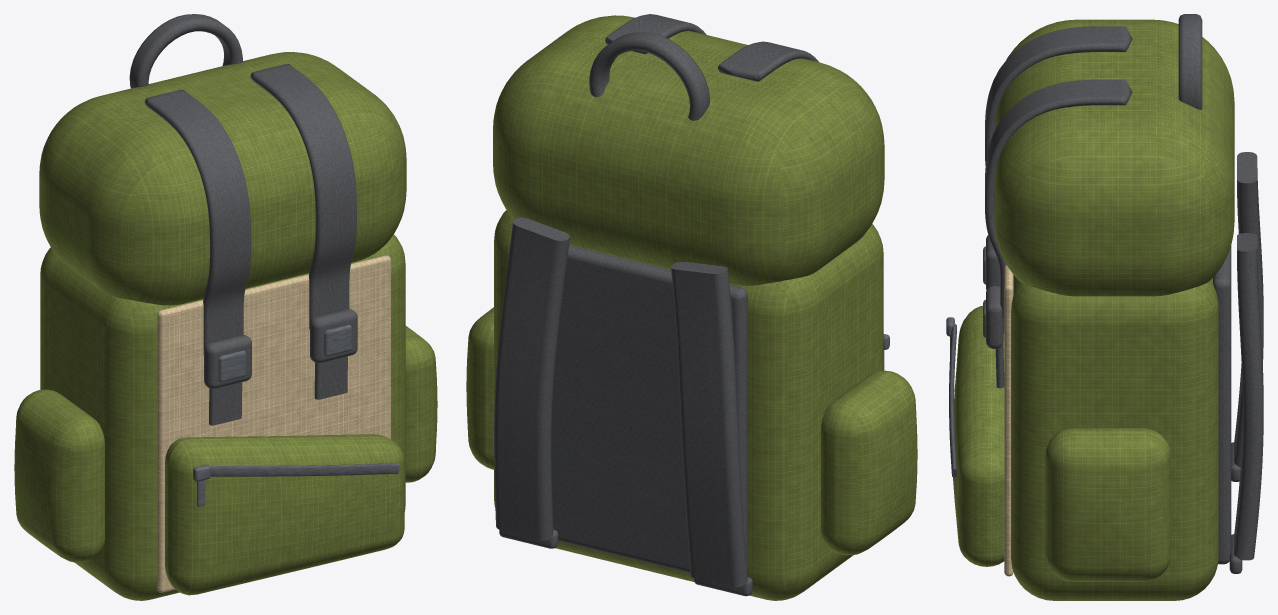
File: backpack.glb
The picture shows the model from 3 angles, left to right: view 1: azimuth 30°, elevation 25°; view 2: azimuth 150°, elevation 25°; view 3: azimuth 270°, elevation 25°; orthographic projection. The views are drawn at different scales.
Visible parts, largest first — view 1: Fabric_Olive, Webbing, Fabric_Beige, Zipper, Pulls; view 2: Fabric_Olive, Webbing; view 3: Fabric_Olive, Webbing, Fabric_Beige, Zipper.
Part boxes in pixels (left/top/right/bottom): Fabric_Olive: left=14, top=52, right=437, bottom=600; Webbing: left=129, top=14, right=357, bottom=425; Fabric_Beige: left=157, top=255, right=390, bottom=592; Zipper: left=209, top=463, right=399, bottom=476; Pulls: left=193, top=325, right=351, bottom=506; Fabric_Olive: left=466, top=15, right=917, bottom=600; Webbing: left=494, top=14, right=818, bottom=596; Fabric_Olive: left=953, top=19, right=1234, bottom=600; Webbing: left=985, top=14, right=1263, bottom=573; Fabric_Beige: left=1004, top=265, right=1013, bottom=576; Zipper: left=949, top=324, right=956, bottom=477.
Size of the model in its own units: 1.48 by 1.82 by 1.01.
Materials: 5 (5 with a texture image).
